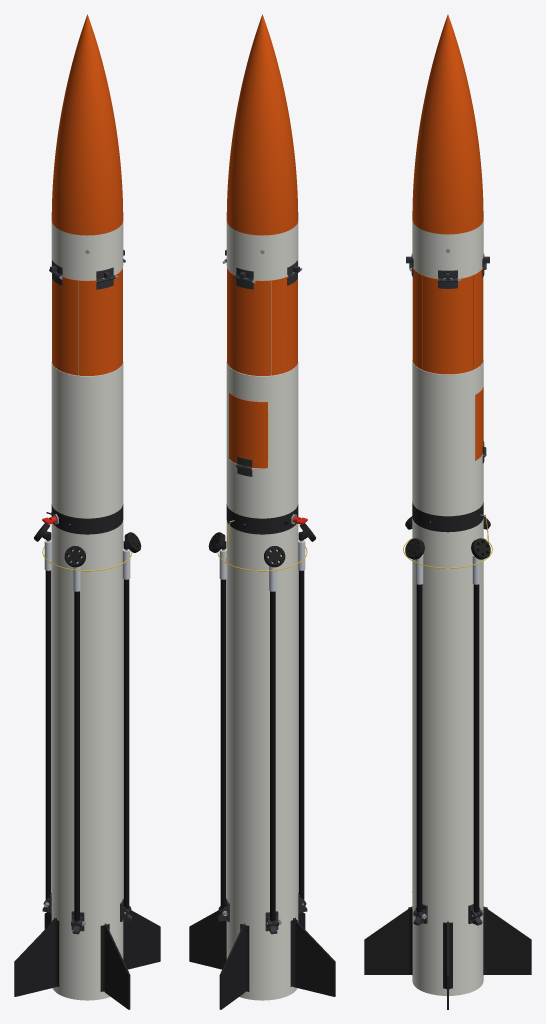
Rendered from slr1_flight.glb.
The picture shows the model from 3 angles, left to right: view 1: azimuth 30°, elevation 25°; view 2: azimuth 150°, elevation 25°; view 3: azimuth 270°, elevation 25°; orthographic projection.
Parts seen in each view (by area): view 1: TUBE-04-1, NOSE-01-1, TUBE-02-1, PETAL-01-4, TUBE-01-1, PETAL-01-3, LEG-STRUT-4, LEG-STRUT-2, FIN-01-3, LEG-STRUT-3, FIN-01-1, FIN-01-4 (+4 smaller); view 2: TUBE-04-1, NOSE-01-1, TUBE-02-1, PETAL-01-2, TUBE-01-1, DOOR-01-1, PETAL-01-3, LEG-STRUT-1, LEG-STRUT-3, FIN-01-3, LEG-STRUT-2, FIN-01-1 (+5 smaller); view 3: TUBE-04-1, NOSE-01-1, TUBE-02-1, PETAL-01-1, TUBE-01-1, FIN-01-2, FIN-01-4, LEG-STRUT-1, LEG-STRUT-4, TUBE-03-1, PETAL-01-2, PETAL-01-4 (+1 smaller).
Part boxes in pixels (left/top/right/bottom): TUBE-04-1: left=51, top=520, right=123, bottom=1000; NOSE-01-1: left=51, top=14, right=123, bottom=235; TUBE-02-1: left=51, top=361, right=123, bottom=518; PETAL-01-4: left=78, top=270, right=121, bottom=375; TUBE-01-1: left=51, top=221, right=123, bottom=280; PETAL-01-3: left=52, top=276, right=77, bottom=375; LEG-STRUT-4: left=123, top=579, right=129, bottom=908; LEG-STRUT-2: left=45, top=570, right=51, bottom=899; FIN-01-3: left=14, top=918, right=56, bottom=996; LEG-STRUT-3: left=74, top=591, right=79, bottom=920; FIN-01-1: left=123, top=910, right=160, bottom=969; FIN-01-4: left=104, top=923, right=130, bottom=1009; TUBE-04-1: left=226, top=520, right=298, bottom=1000; NOSE-01-1: left=226, top=14, right=298, bottom=235; TUBE-02-1: left=226, top=361, right=298, bottom=518; PETAL-01-2: left=228, top=270, right=271, bottom=375; TUBE-01-1: left=226, top=221, right=298, bottom=280; DOOR-01-1: left=229, top=392, right=267, bottom=468; PETAL-01-3: left=272, top=276, right=297, bottom=375; LEG-STRUT-1: left=220, top=579, right=226, bottom=908; LEG-STRUT-3: left=298, top=570, right=304, bottom=899; FIN-01-3: left=293, top=918, right=335, bottom=996; LEG-STRUT-2: left=270, top=591, right=275, bottom=920; FIN-01-1: left=189, top=910, right=226, bottom=969; TUBE-04-1: left=412, top=518, right=483, bottom=995; NOSE-01-1: left=412, top=14, right=483, bottom=234; TUBE-02-1: left=412, top=359, right=483, bottom=516; PETAL-01-1: left=423, top=275, right=472, bottom=374; TUBE-01-1: left=412, top=220, right=483, bottom=279; FIN-01-2: left=483, top=906, right=531, bottom=974; FIN-01-4: left=364, top=906, right=412, bottom=974; LEG-STRUT-1: left=473, top=584, right=479, bottom=912; LEG-STRUT-4: left=416, top=584, right=422, bottom=912; TUBE-03-1: left=412, top=502, right=483, bottom=532; PETAL-01-2: left=473, top=267, right=483, bottom=369; PETAL-01-4: left=412, top=267, right=422, bottom=369.
Bounding box in the file's own units: 239 × 1524 × 239.
